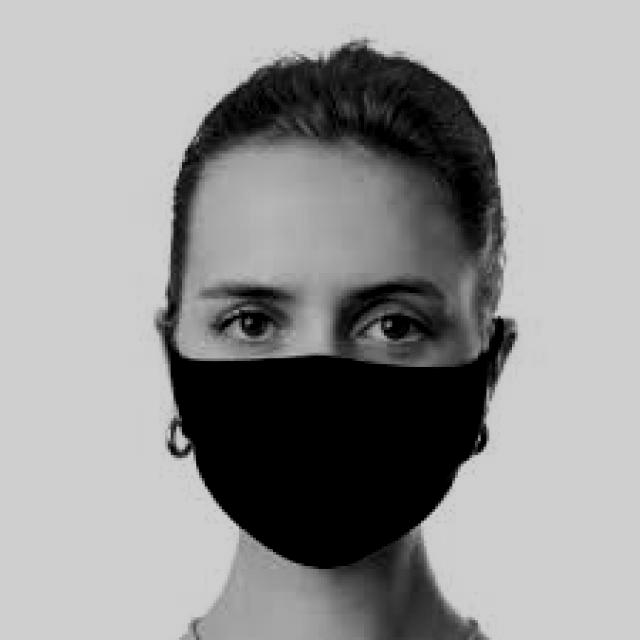fake: (119, 325, 515, 577)
real: (170, 152, 490, 572)
